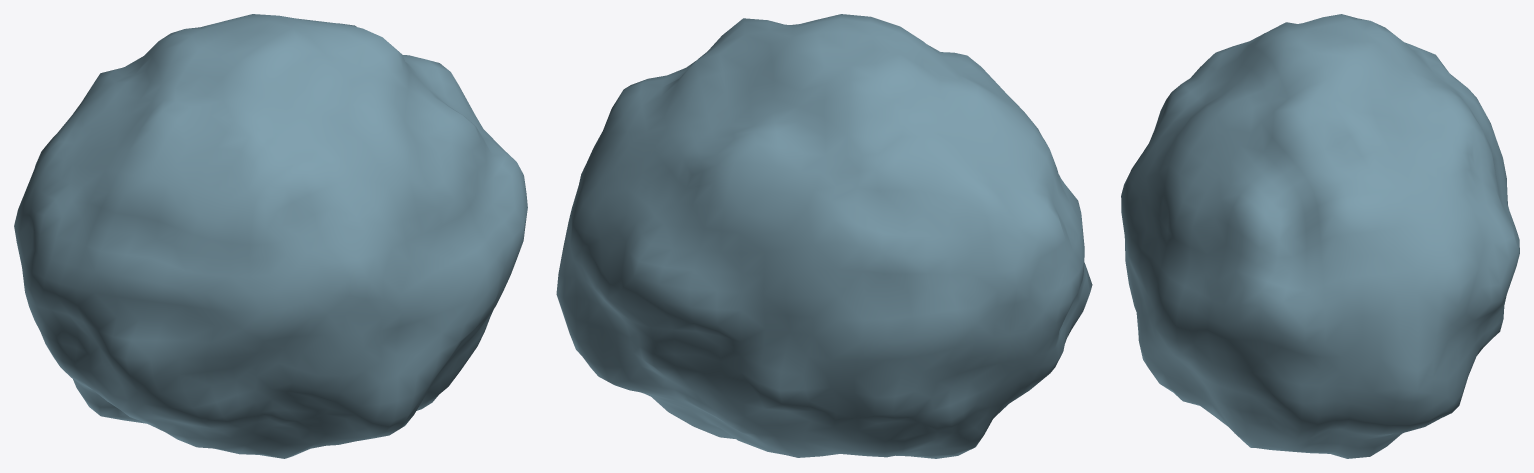
The model's file is sw_swjj_mei.fbx.
The picture shows the model from 3 angles, left to right: view 1: azimuth 30°, elevation 25°; view 2: azimuth 150°, elevation 25°; view 3: azimuth 270°, elevation 25°; orthographic projection. The views are drawn at different scales.
Visible parts, largest first — view 1: sw_swjj_mei; view 2: sw_swjj_mei; view 3: sw_swjj_mei.
Boxes of the visible parts, x1=… form: sw_swjj_mei: x1=14, y1=14, x2=527, y2=458; sw_swjj_mei: x1=556, y1=14, x2=1092, y2=458; sw_swjj_mei: x1=1121, y1=14, x2=1519, y2=458.
Bounding box in the file's own units: 4.23 × 3.5 × 3.36.
